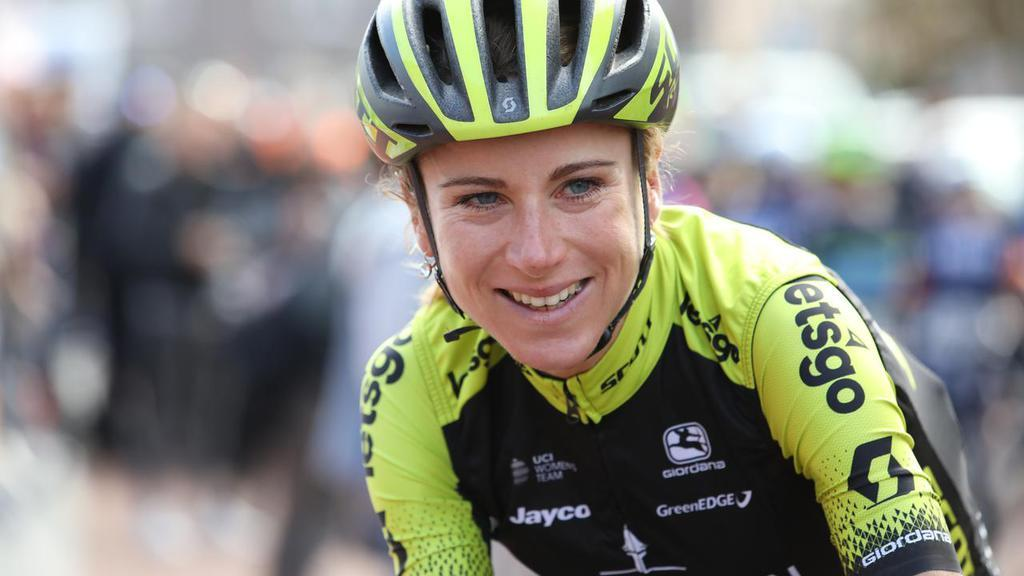helmet: (372, 27, 659, 413)
